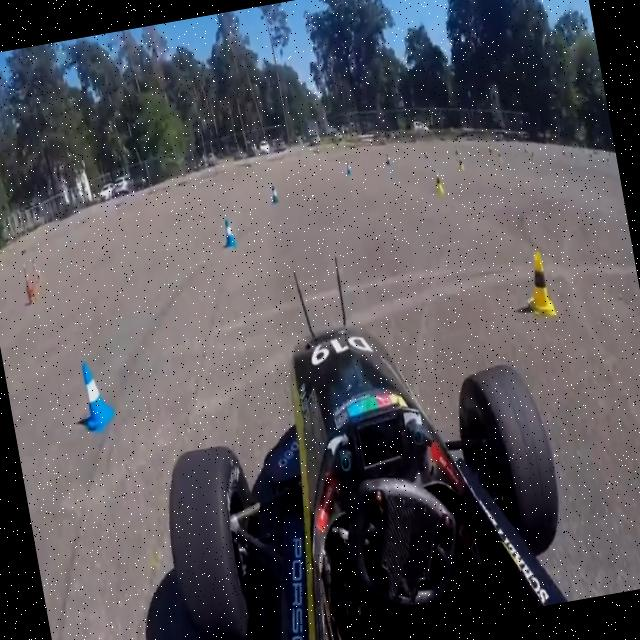blue_cone: (75, 356, 118, 434), (220, 218, 237, 250), (269, 182, 280, 205)
yellow_cone: (520, 248, 556, 318), (432, 170, 446, 194)
